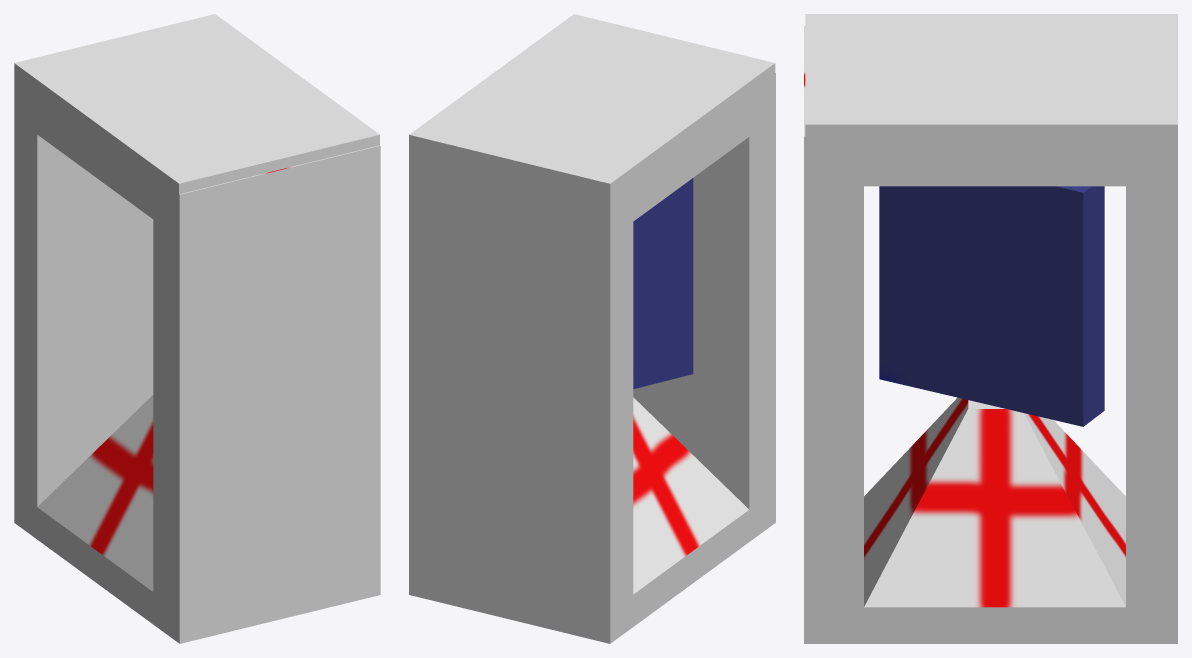
The model's file is medBay.fbx.
3 views of the same model, side by side, from view 1: azimuth 30°, elevation 25°; view 2: azimuth 150°, elevation 25°; view 3: azimuth 270°, elevation 25° (orthographic). The views are drawn at different scales.
Visible parts, largest first — view 1: Cube; view 2: Cube, Cube_001; view 3: Cube, Cube_001.
Part boxes in pixels (x1,y1,x2,y2): Cube: (14, 14, 380, 643); Cube: (409, 14, 775, 643); Cube_001: (633, 178, 693, 389); Cube: (804, 14, 1177, 643); Cube_001: (879, 186, 1104, 426).
Bounding box in the file's own units: 2 × 4.37 × 2.85.
